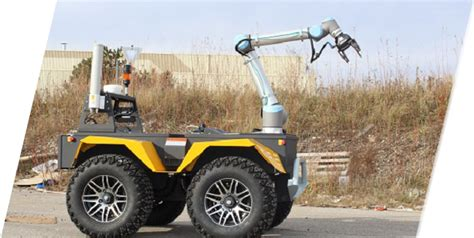husky: (58, 134, 297, 238)
